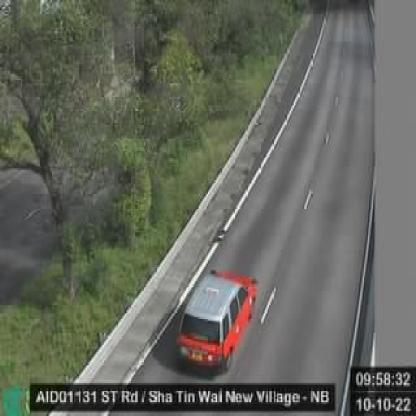Car: (176, 271, 256, 370)
